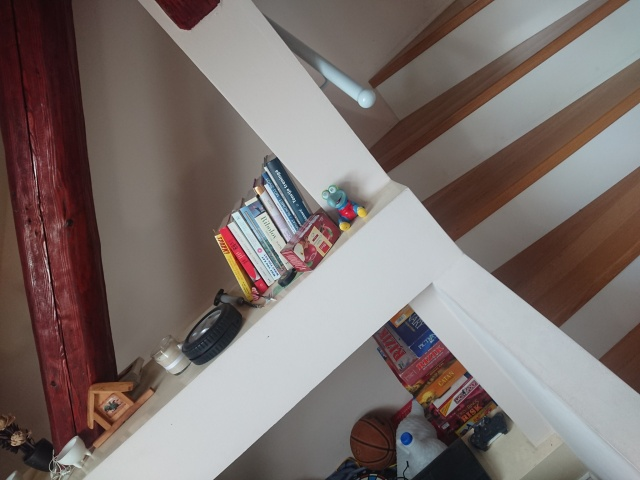Franck Apple Cinnamon Tea 60g: (278, 209, 343, 272)
